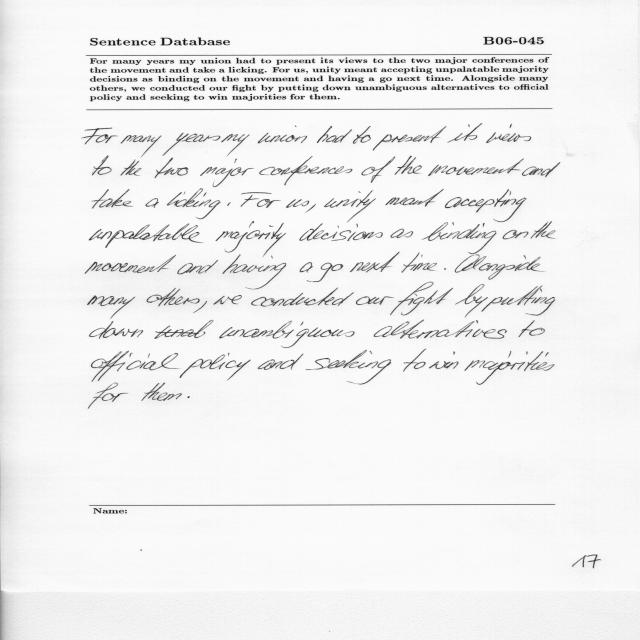word: (219, 321, 355, 348), (465, 351, 555, 385), (306, 350, 391, 384), (90, 223, 204, 248), (260, 156, 353, 185), (445, 189, 526, 222), (91, 351, 179, 381), (374, 320, 507, 339), (216, 221, 286, 257), (422, 222, 496, 254), (455, 255, 545, 280), (223, 255, 287, 290), (482, 286, 556, 316), (390, 282, 453, 315), (251, 288, 354, 307), (179, 353, 251, 380), (373, 126, 447, 151), (85, 255, 176, 274), (324, 190, 376, 222), (428, 159, 524, 176), (167, 189, 221, 219), (200, 159, 254, 187), (299, 224, 383, 242), (163, 133, 221, 156), (455, 284, 488, 318), (155, 320, 214, 339), (88, 296, 136, 319), (89, 383, 129, 409), (385, 189, 444, 206), (350, 253, 399, 273), (90, 321, 144, 339), (147, 288, 200, 306), (141, 382, 190, 401), (121, 135, 162, 157), (362, 157, 396, 183), (258, 126, 307, 144), (486, 124, 531, 143), (92, 189, 133, 209), (258, 353, 303, 370), (402, 253, 437, 273), (307, 263, 343, 282), (448, 123, 482, 143), (155, 158, 189, 178), (241, 192, 281, 208), (221, 134, 250, 156), (82, 128, 118, 145), (522, 162, 560, 178), (317, 126, 352, 143), (178, 260, 219, 274), (403, 349, 426, 372), (429, 351, 458, 369), (395, 156, 422, 175), (531, 221, 556, 239), (519, 320, 545, 337), (93, 156, 112, 176), (121, 159, 142, 176), (356, 296, 394, 305), (353, 126, 371, 144), (213, 295, 242, 305), (503, 230, 529, 239), (286, 199, 309, 208), (390, 229, 413, 238), (193, 301, 207, 313), (145, 198, 159, 208), (299, 262, 313, 272), (305, 204, 316, 213), (346, 381, 356, 384), (227, 202, 231, 206), (444, 268, 446, 270)
